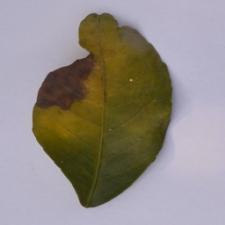Black: (25, 22, 119, 142)
